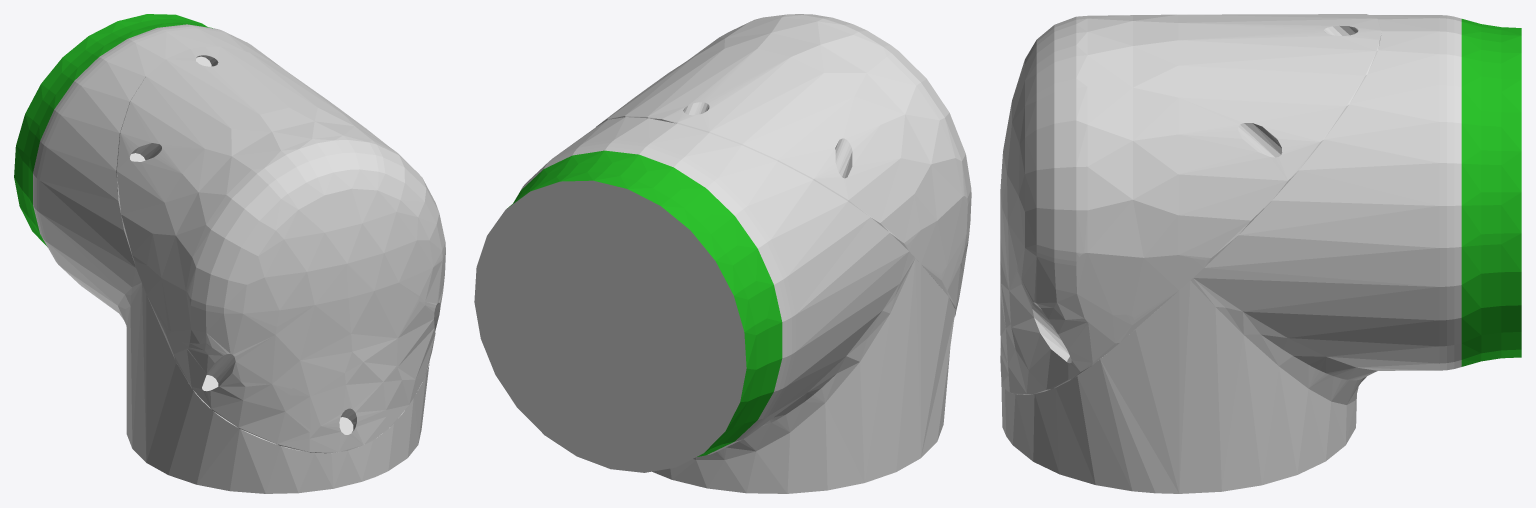
3 renders of one model, left to right at view 1: azimuth 30°, elevation 25°; view 2: azimuth 150°, elevation 25°; view 3: azimuth 270°, elevation 25°, orthographic. The views are drawn at different scales.
Visible parts, largest first — view 1: node; view 2: node; view 3: node.
Part boxes in pixels (box(x1,y1,x2,y2)): node: box(14, 14, 445, 493); node: box(474, 14, 971, 493); node: box(1000, 14, 1521, 493).
Size of the model in its own units: 130 by 156 by 190.
